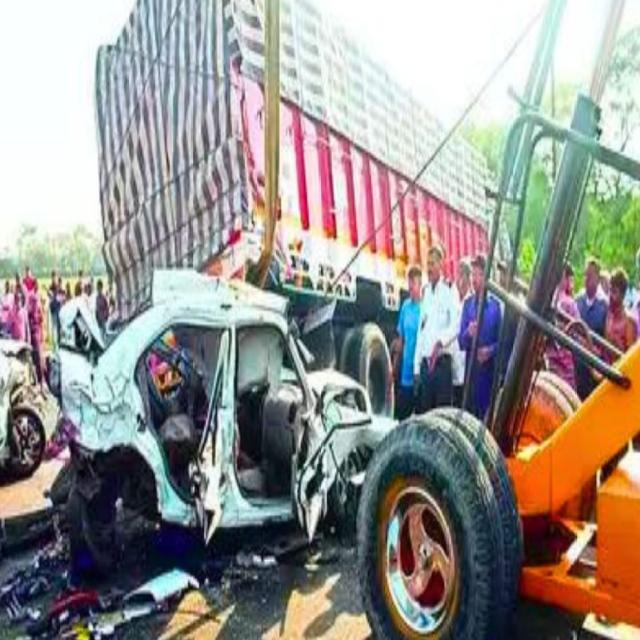accident: (0, 271, 394, 635)
